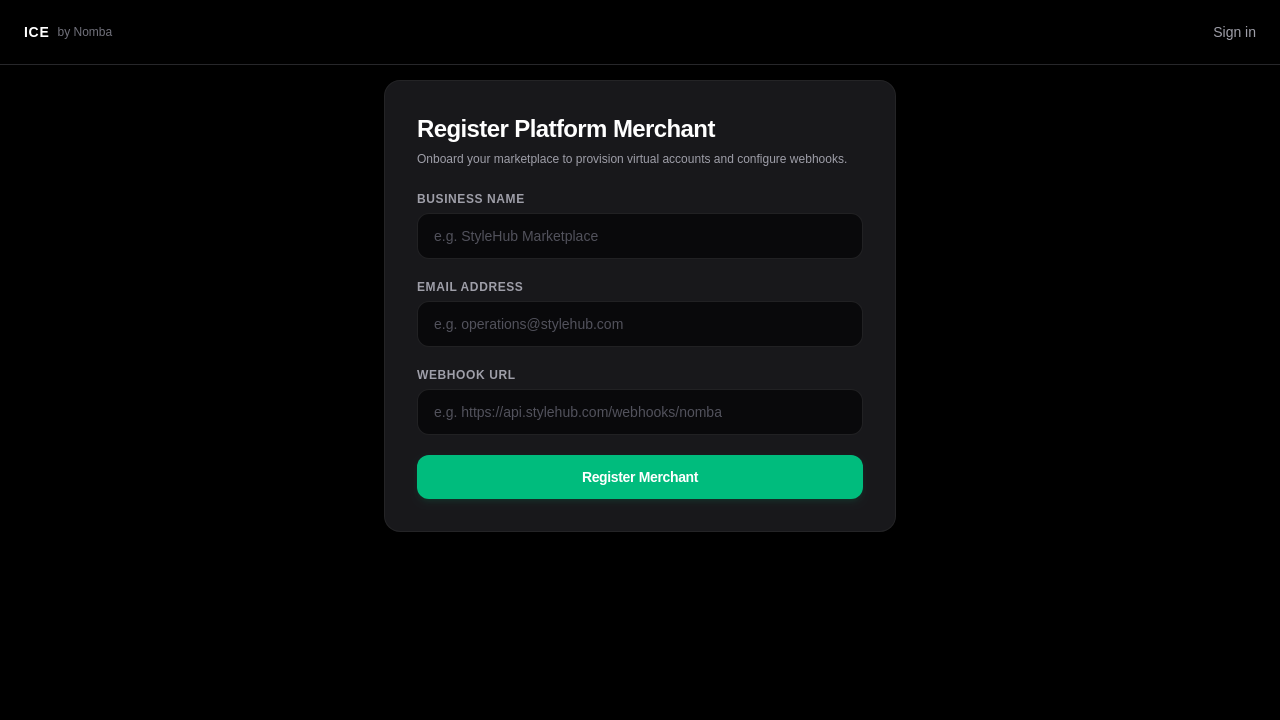
Test case: Register Page › shows inline validation errors on invalid input
The image size is (1280, 720).
Type "ab" into the field labelled "Business Name" at (640, 236), box [417,213,863,259]
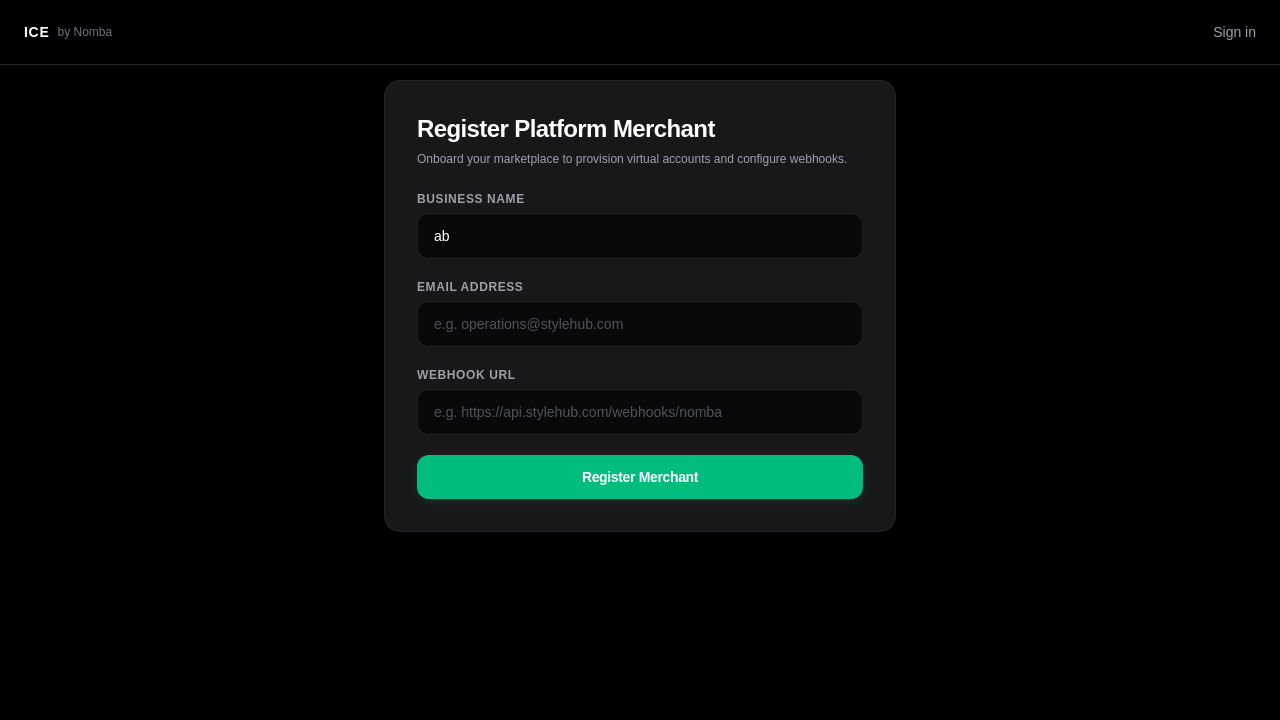
Type "invalid-email" into the field labelled "Email Address" at (640, 324), box [417,301,863,347]
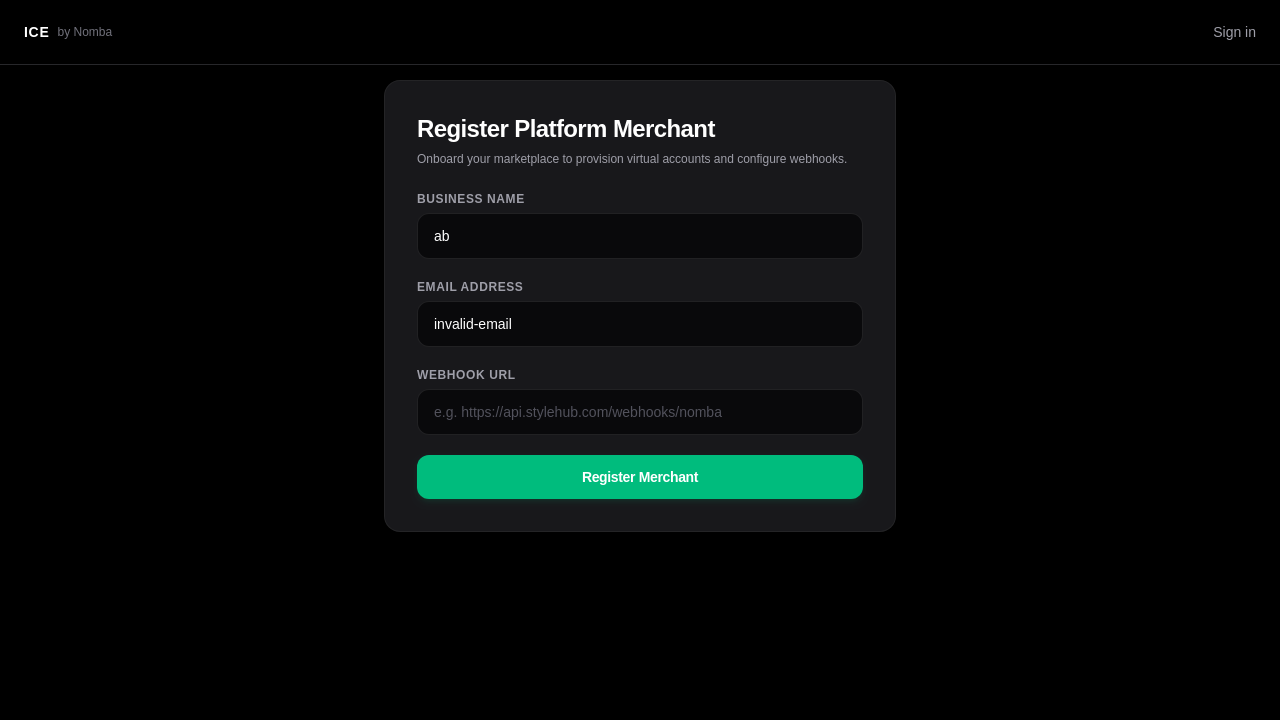
Type "http://unsecure.com" into the field labelled "Webhook URL" at (640, 412), box [417,389,863,435]
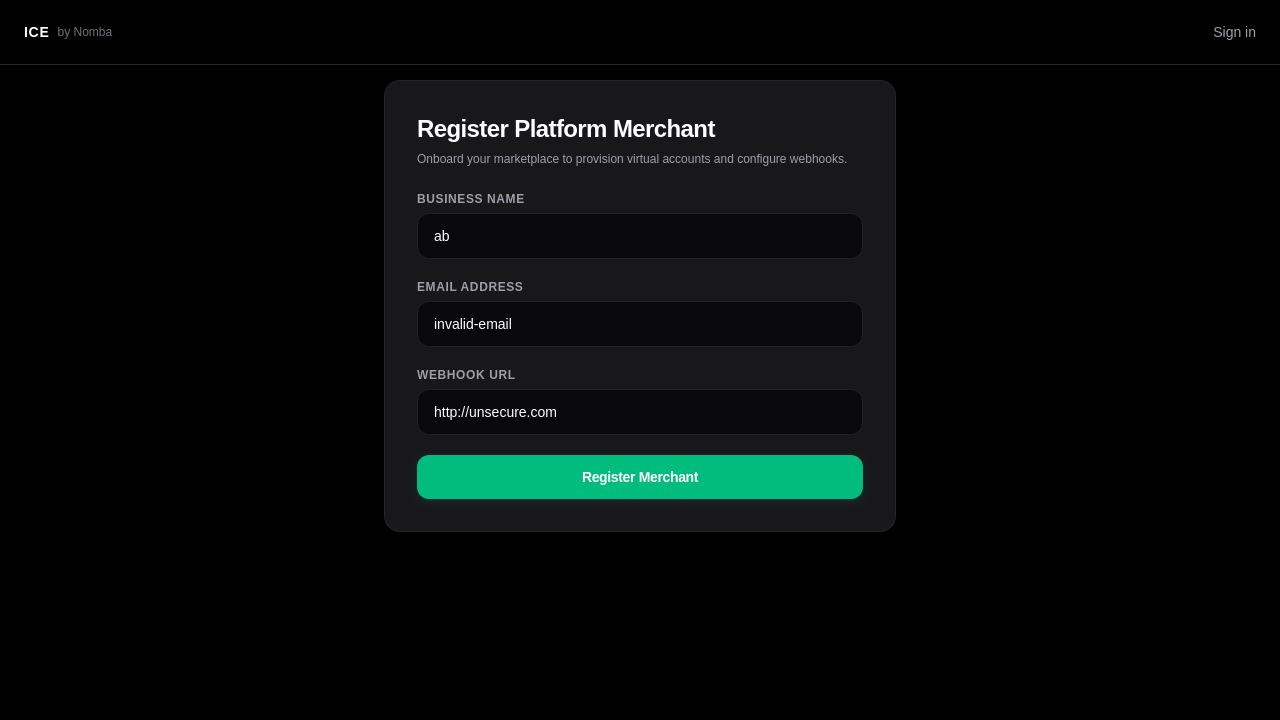
Click the button "Register Merchant" at (640, 477), box [417,455,863,499]
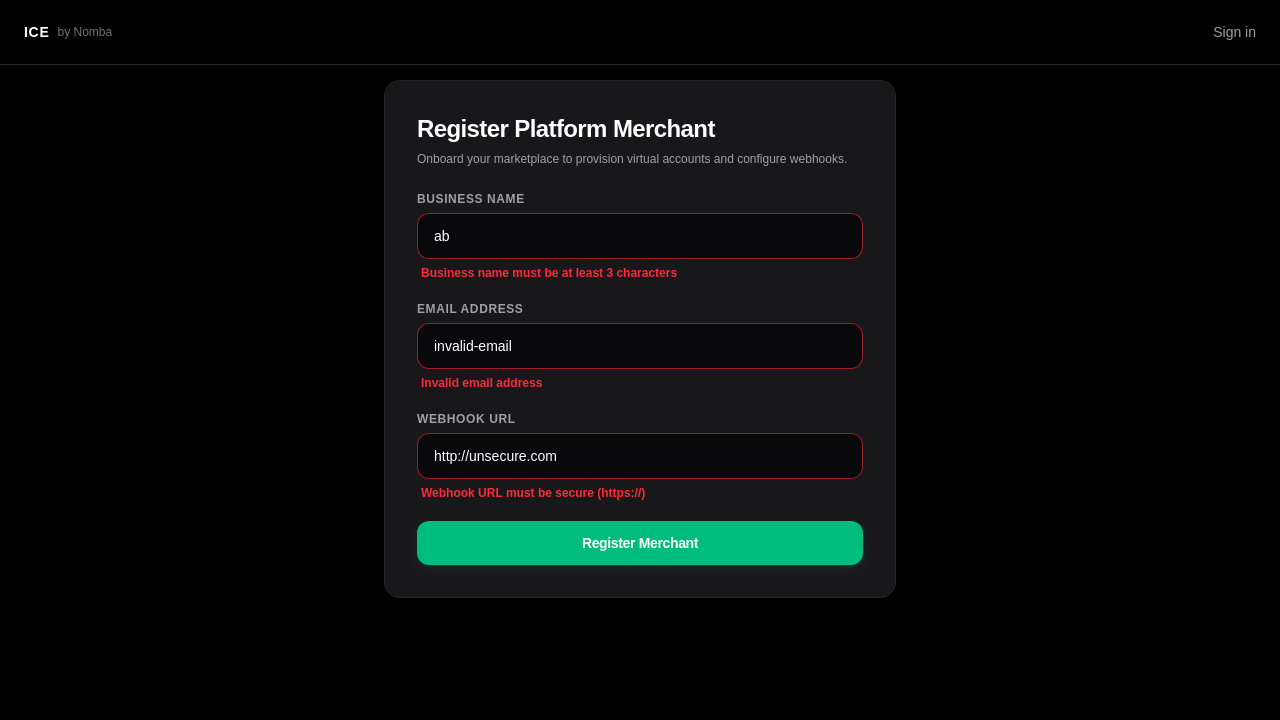
Expected: the text "Business name must be at least 3 characters" is shown, [421,266,677,280]
Expected: the text "Invalid email address" is shown, [421,376,542,390]
Expected: the text "Webhook URL must be secure (https://)" is shown, [421,486,645,500]
